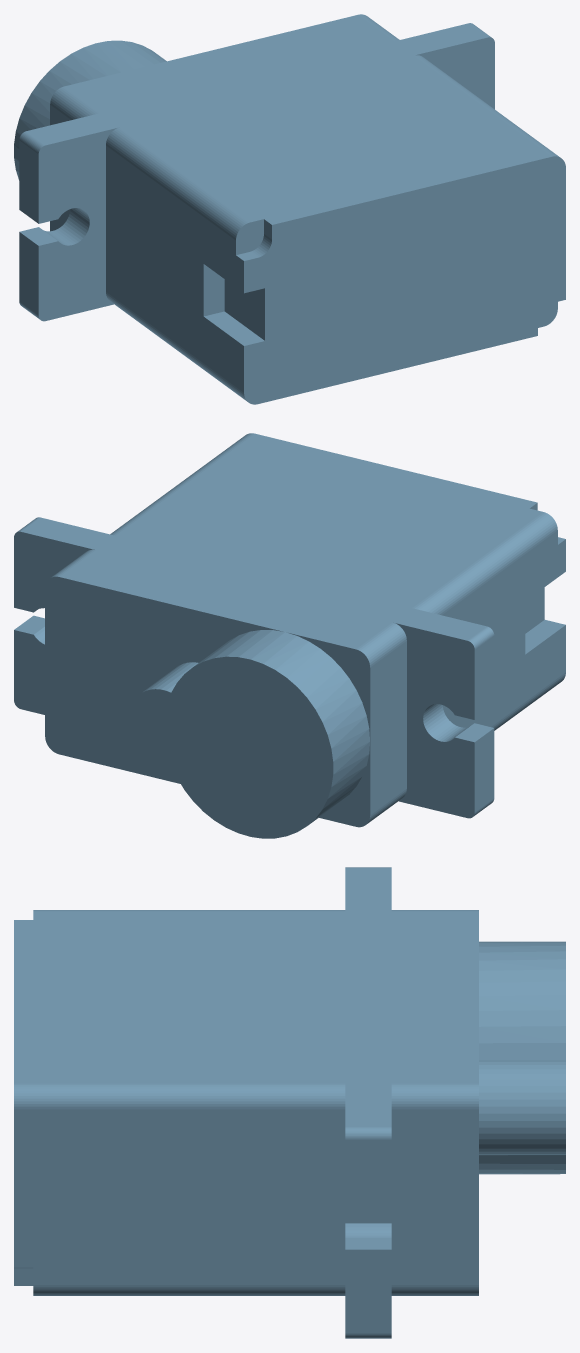
The model's file is sg90_body.glb.
3 views of the same model, one above another, from view 1: azimuth 30°, elevation 25°; view 2: azimuth 150°, elevation 25°; view 3: azimuth 270°, elevation 25° (orthographic). The views are drawn at different scales.
Visible parts, largest first — view 1: world; view 2: world; view 3: world.
Boxes of the visible parts, <box> form: world: <box>14,14,565,404</box>; world: <box>14,433,565,838</box>; world: <box>14,867,565,1338</box>.
Bounding box in the file's own units: 0.0326 × 0.012 × 0.0285.
